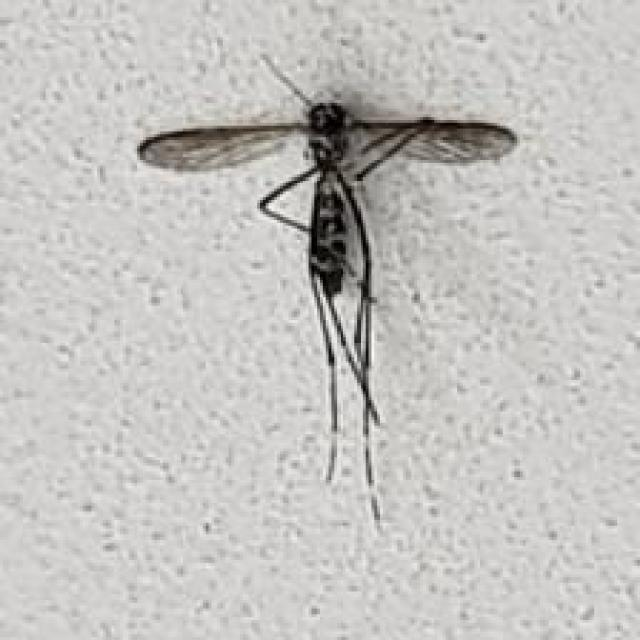Aedes albopictus: (136, 52, 518, 534)
